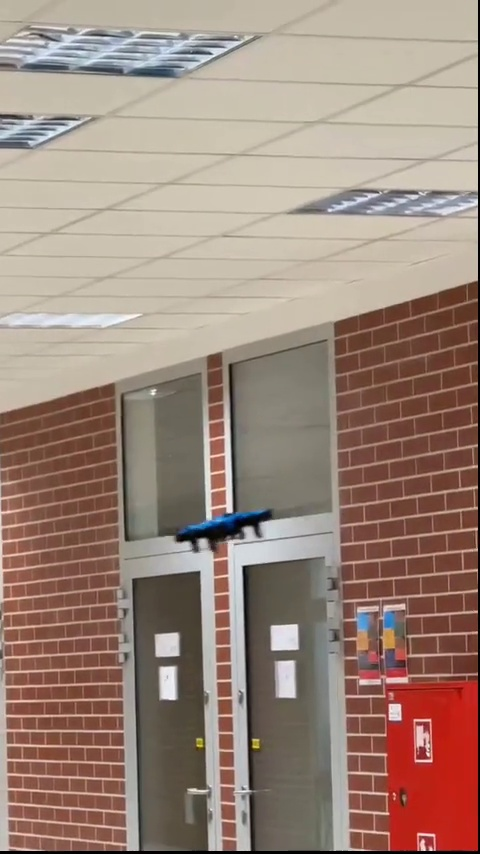drone: (182, 505, 278, 552)
